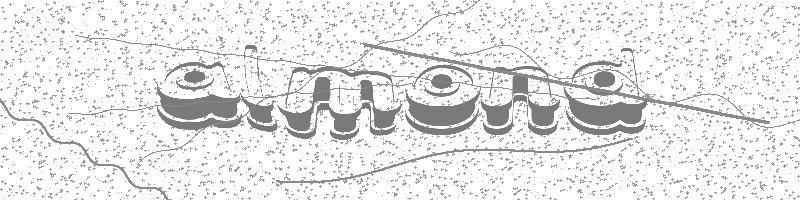a: (156, 61, 241, 131)
d: (563, 47, 648, 136)
l: (240, 43, 279, 133)
m: (277, 64, 399, 141)
n: (480, 65, 561, 136)
o: (404, 64, 481, 137)
